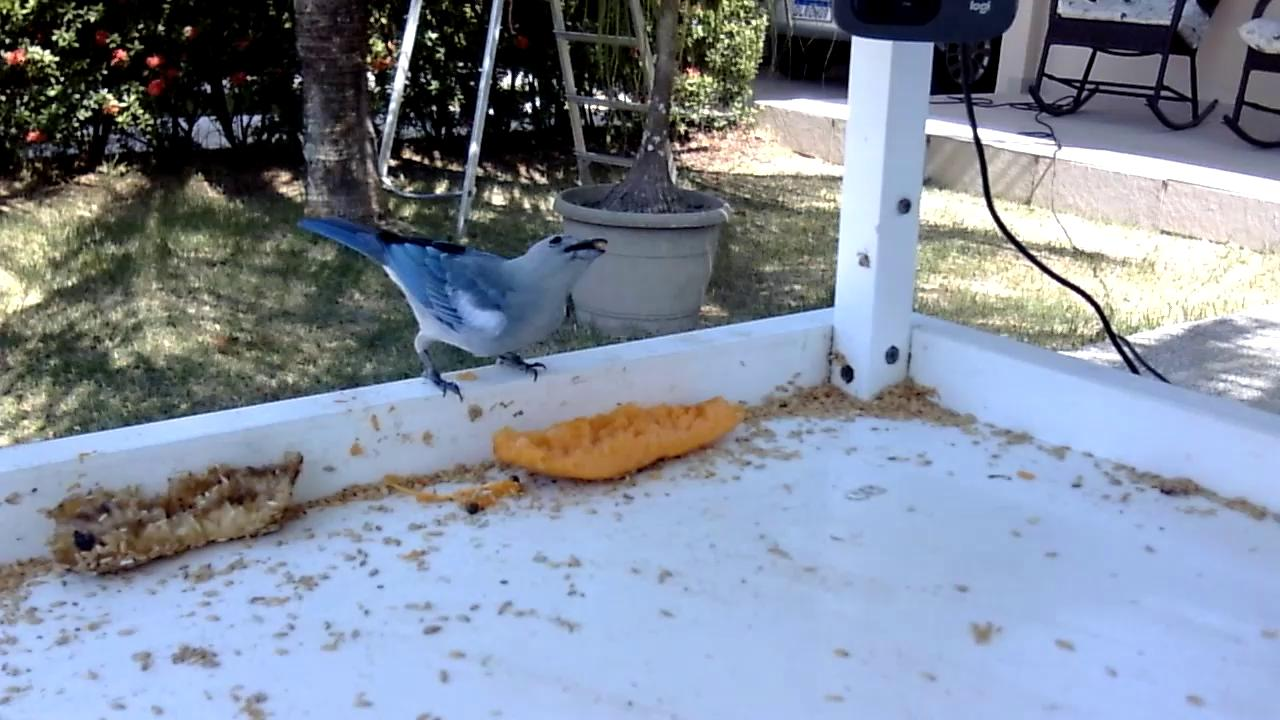sanhaco_da_amazonia: (297, 212, 612, 402)
